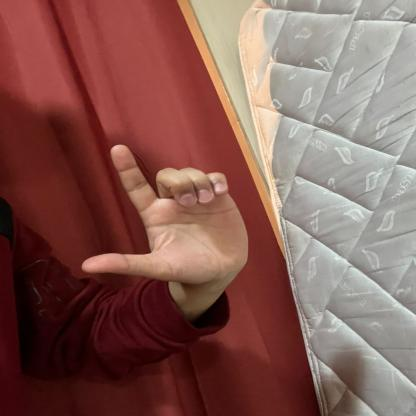L: (63, 138, 257, 284)
